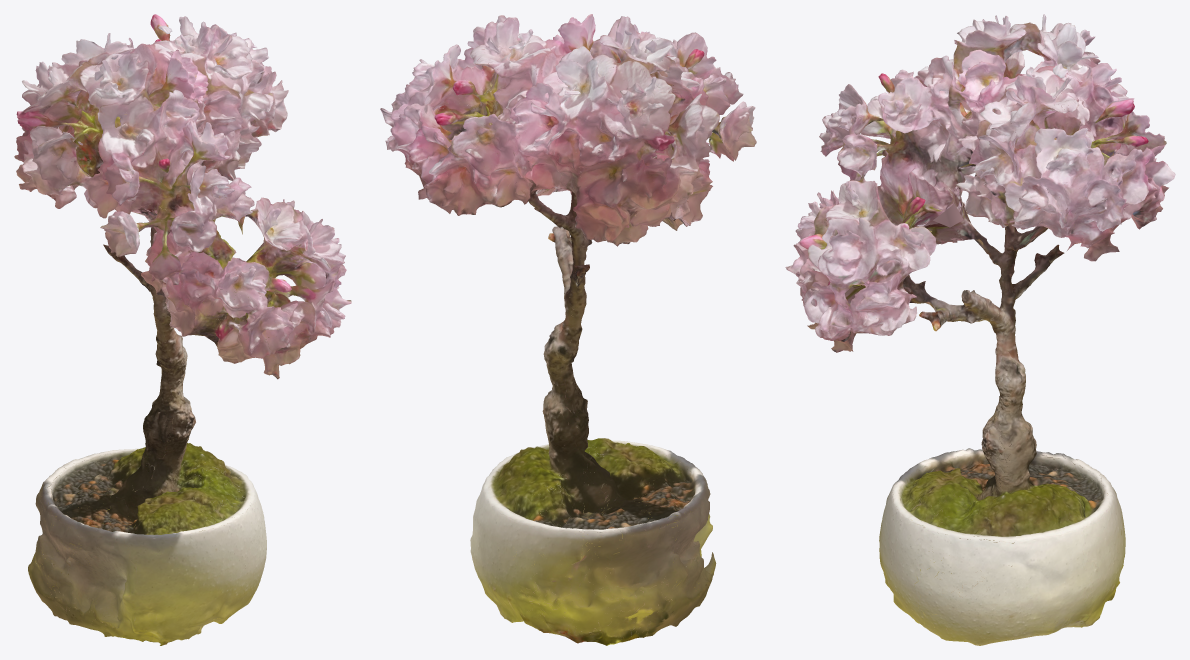
Rendered from sakura_bonsai.glb.
3 views of the same model, side by side, from view 1: azimuth 30°, elevation 25°; view 2: azimuth 150°, elevation 25°; view 3: azimuth 270°, elevation 25° (orthographic). The views are drawn at different scales.
Visible parts, largest first — view 1: model; view 2: model; view 3: model.
Part boxes in pixels (<box>): model: <box>14,14,351,645</box>; model: <box>380,14,756,645</box>; model: <box>785,14,1175,645</box>.
Size of the model in its own units: 0.1399 by 0.2731 by 0.1675.
Materials: 1 (1 with a texture image).
